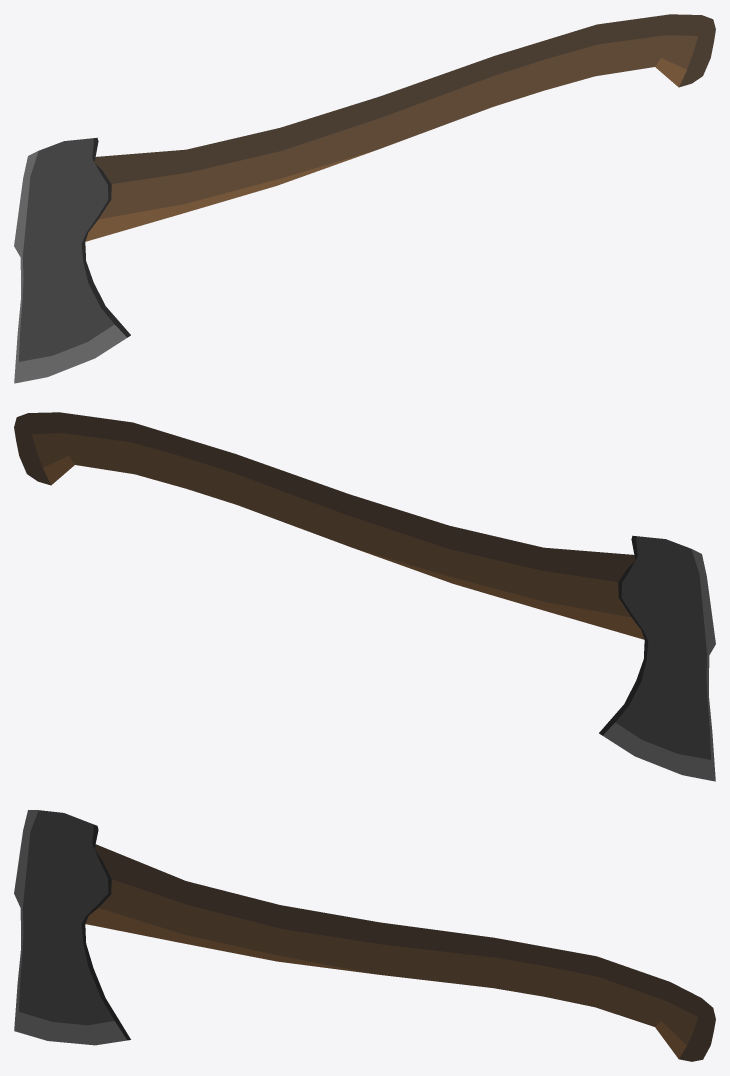
Rendered from axe.FBX.
3 views of the same model, one above another, from view 1: azimuth 30°, elevation 25°; view 2: azimuth 150°, elevation 25°; view 3: azimuth 330°, elevation 25° (orthographic).
Visible parts, largest first — view 1: axe; view 2: axe; view 3: axe.
Part boxes in pixels (x1=…): axe: x1=14, y1=14, x2=715, y2=383; axe: x1=14, y1=412, x2=715, y2=781; axe: x1=14, y1=810, x2=715, y2=1061.
Bounding box in the file's own units: 34.47 × 10.89 × 1.84e-06.
